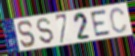2: (73, 10, 94, 43)
7: (55, 13, 69, 45)
C: (109, 7, 128, 35)
E: (89, 8, 113, 38)
S: (17, 19, 38, 49), (36, 17, 56, 45)
